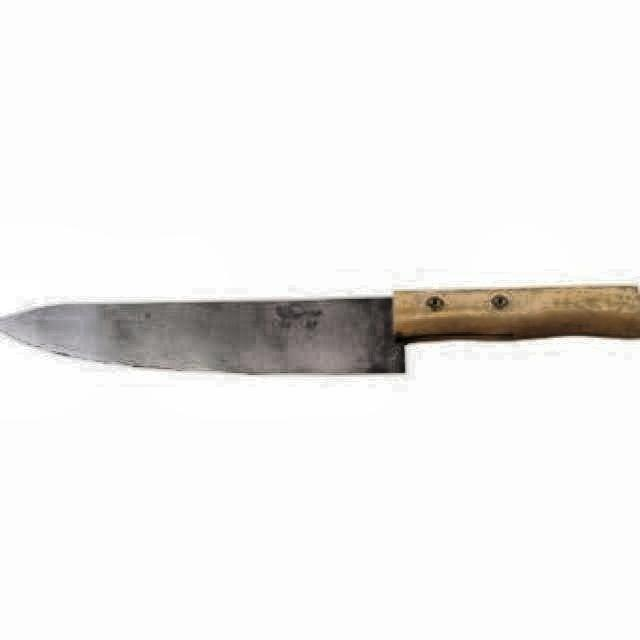knife: (0, 283, 640, 377)
